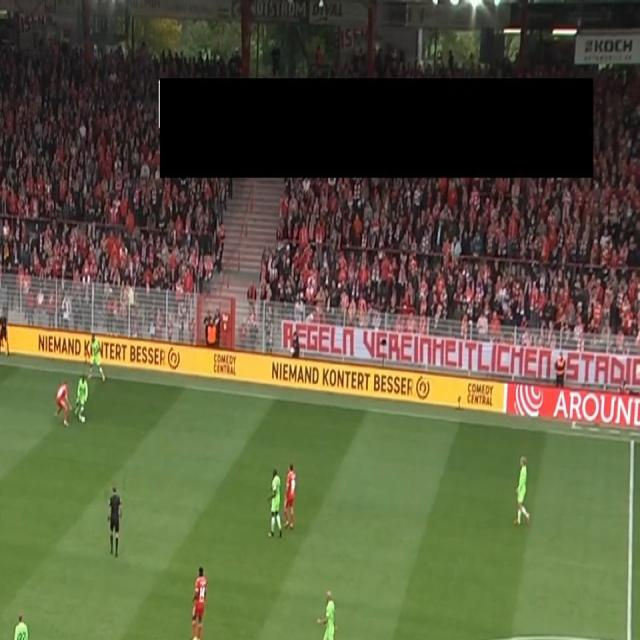ball: (81, 415, 86, 425)
